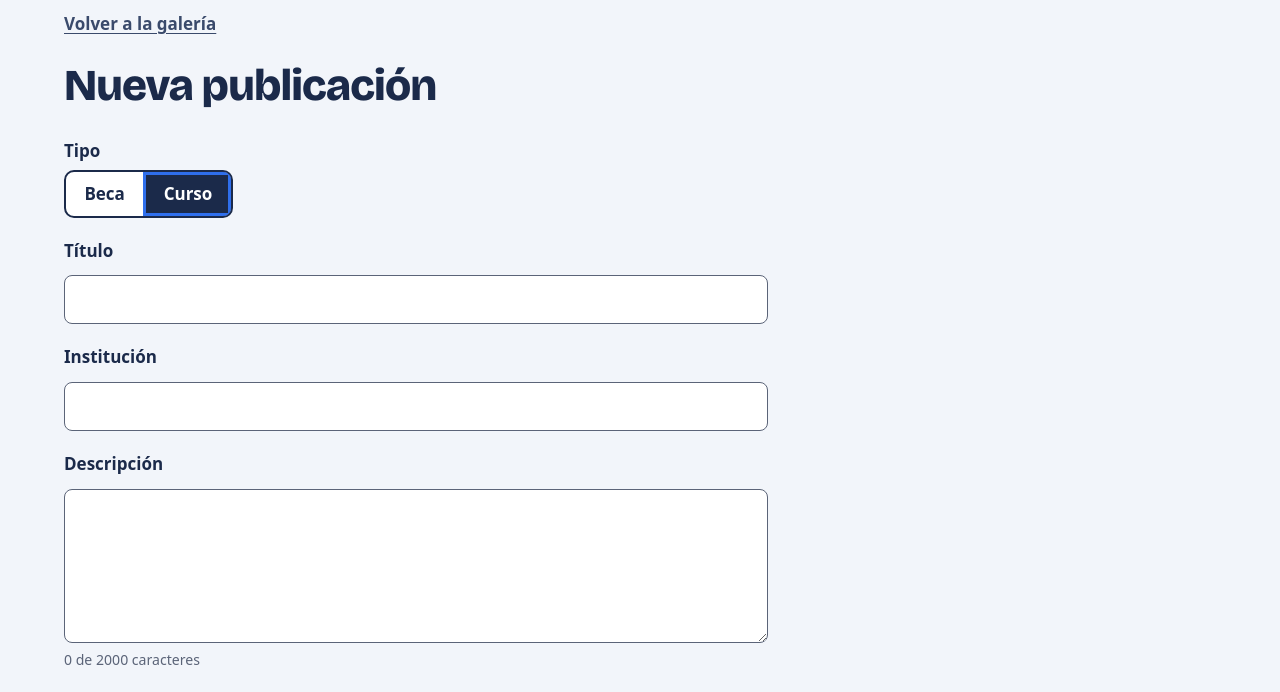
Test: Editor de publicaciones › crea un curso y vuelve a la galería con un mensaje
Earlier steps of the test are not shown.
Step 1. Type "Curso de Git" into the field labelled "Título" → (416, 300), box [64,275,768,324]
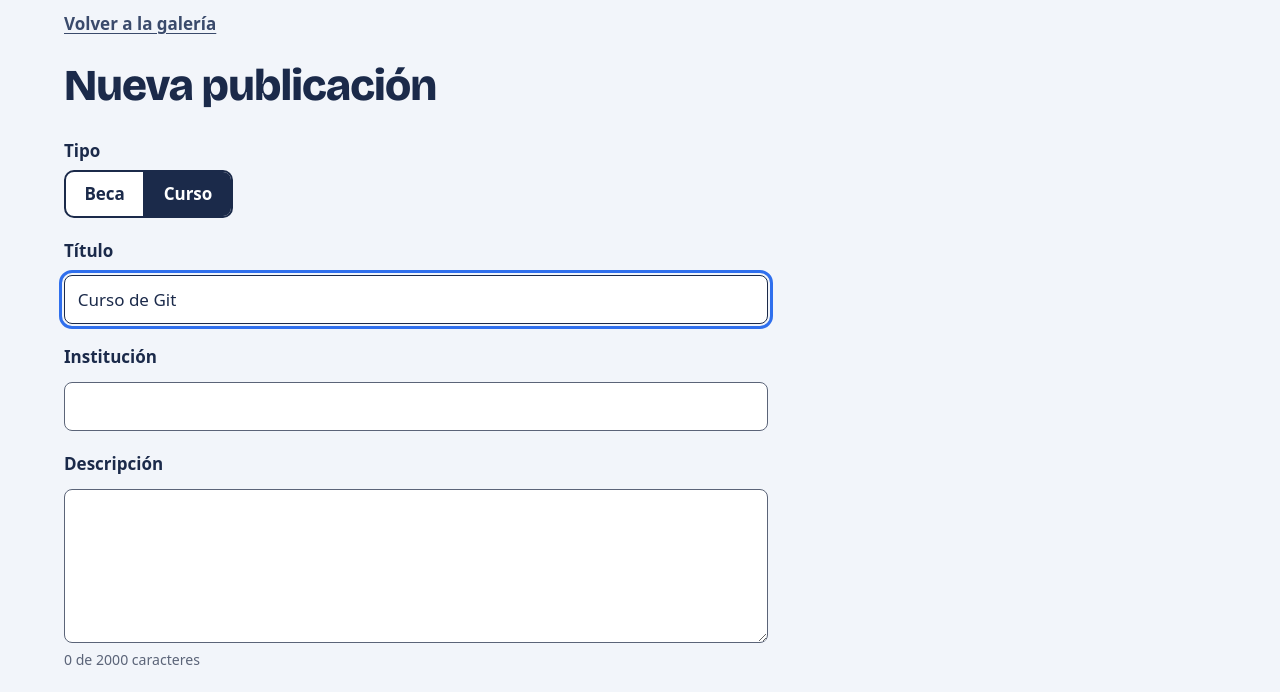
Step 2. Type "Academia" into the field labelled "Institución" → (416, 407), box [64,382,768,431]
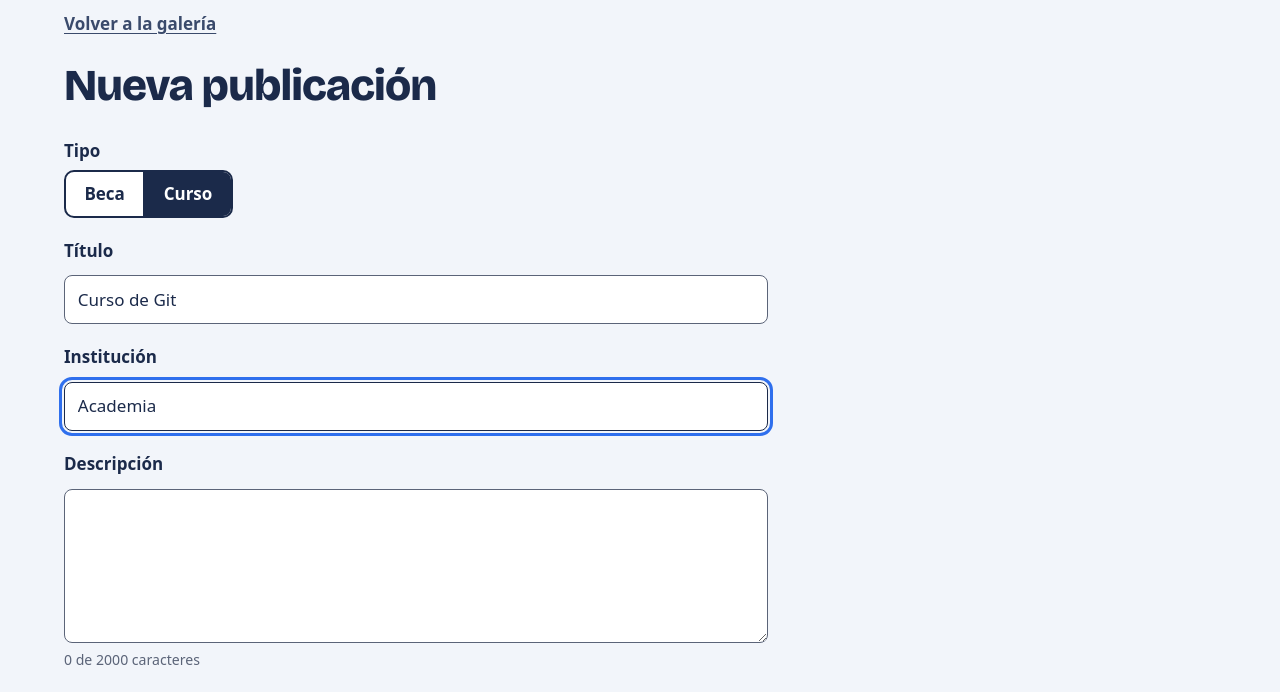
Step 3. Type "Control de versiones" into the text box labelled "Descripción" → (416, 566), box [64,489,768,643]
(page scrolled)
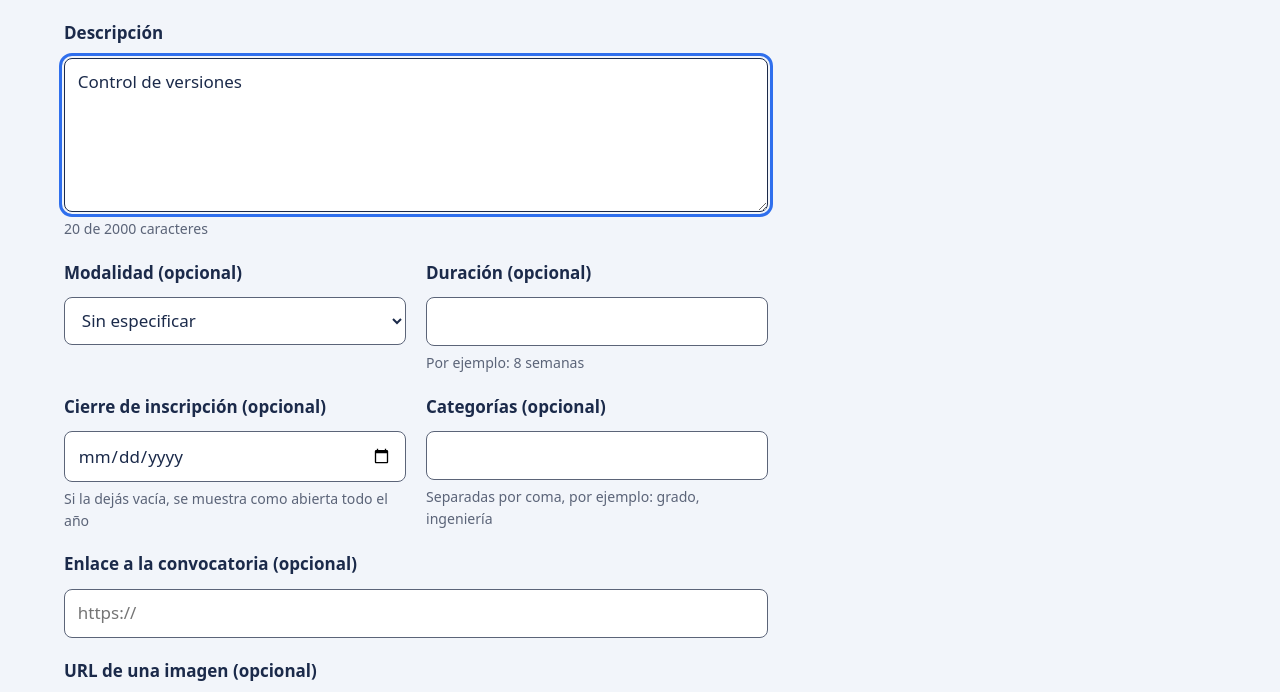
Step 4. Select "Virtual" in the dropdown labelled "Modalidad (opcional)" → (235, 321), box [64,297,406,345]
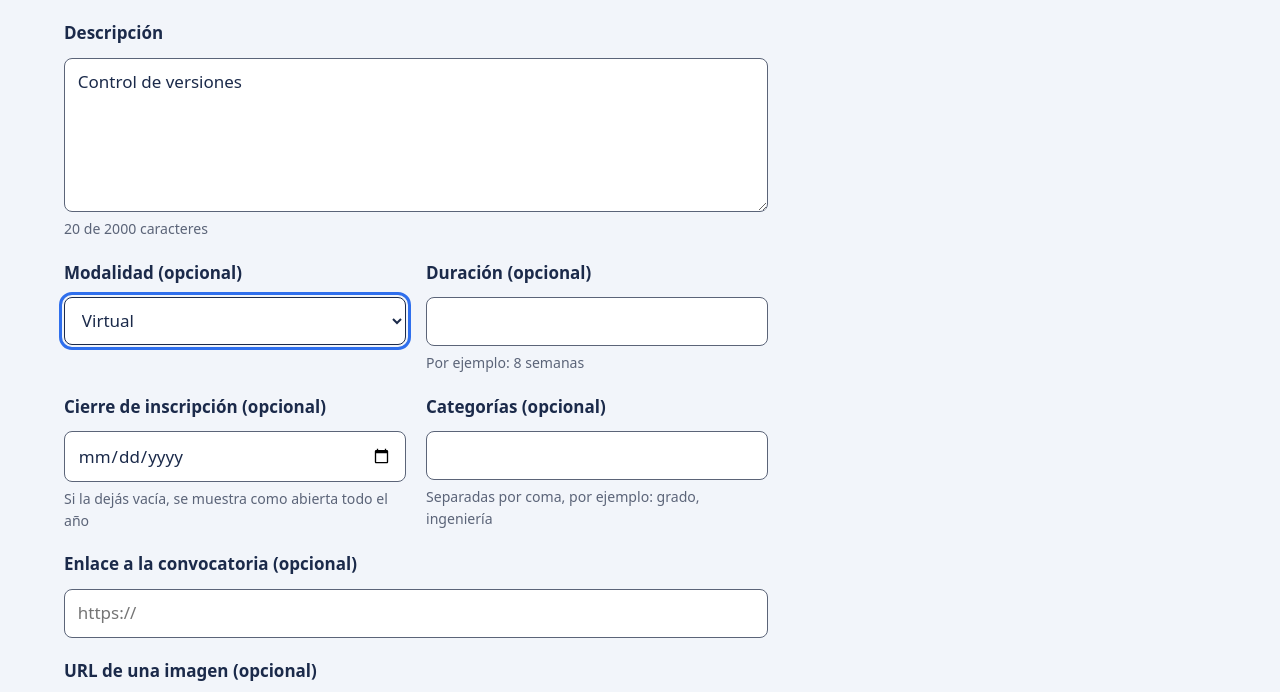
Step 5. Type "Programación, herramientas" into the field labelled "Categorías (opcional)" → (597, 456), box [426,431,768,480]
(page scrolled)
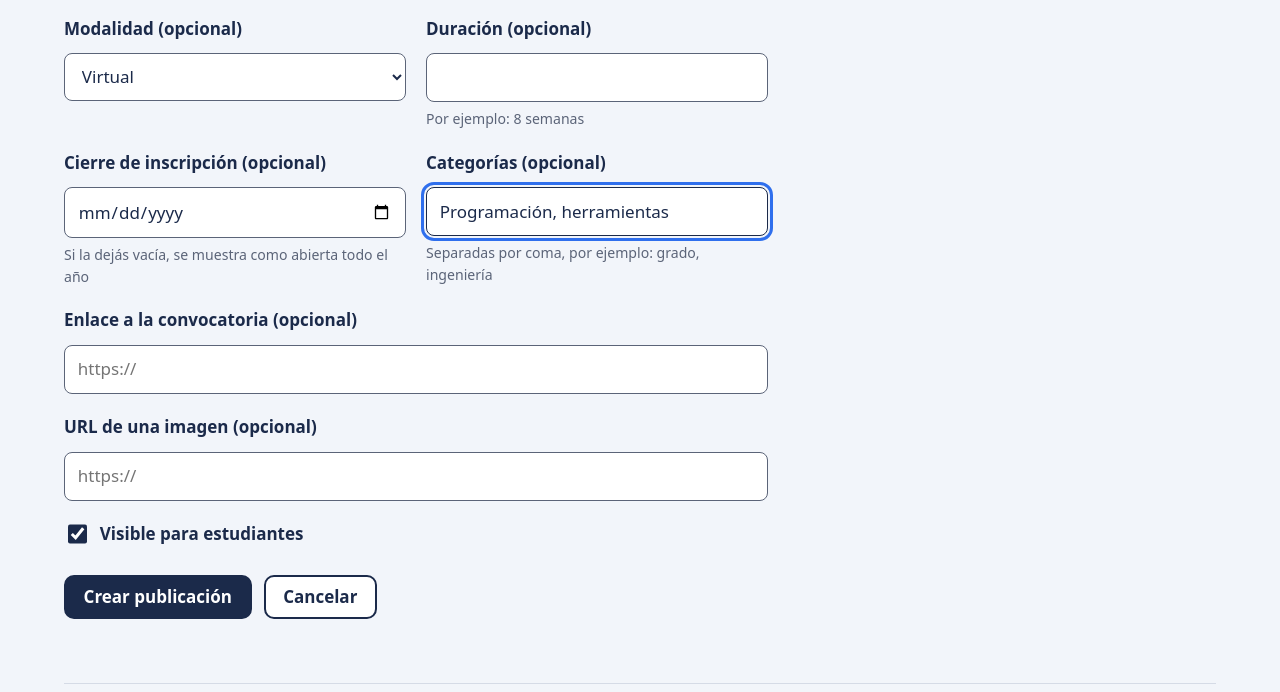
Step 6. Click the button "Crear publicación" → (158, 597), box [64,575,252,619]
(page scrolled)
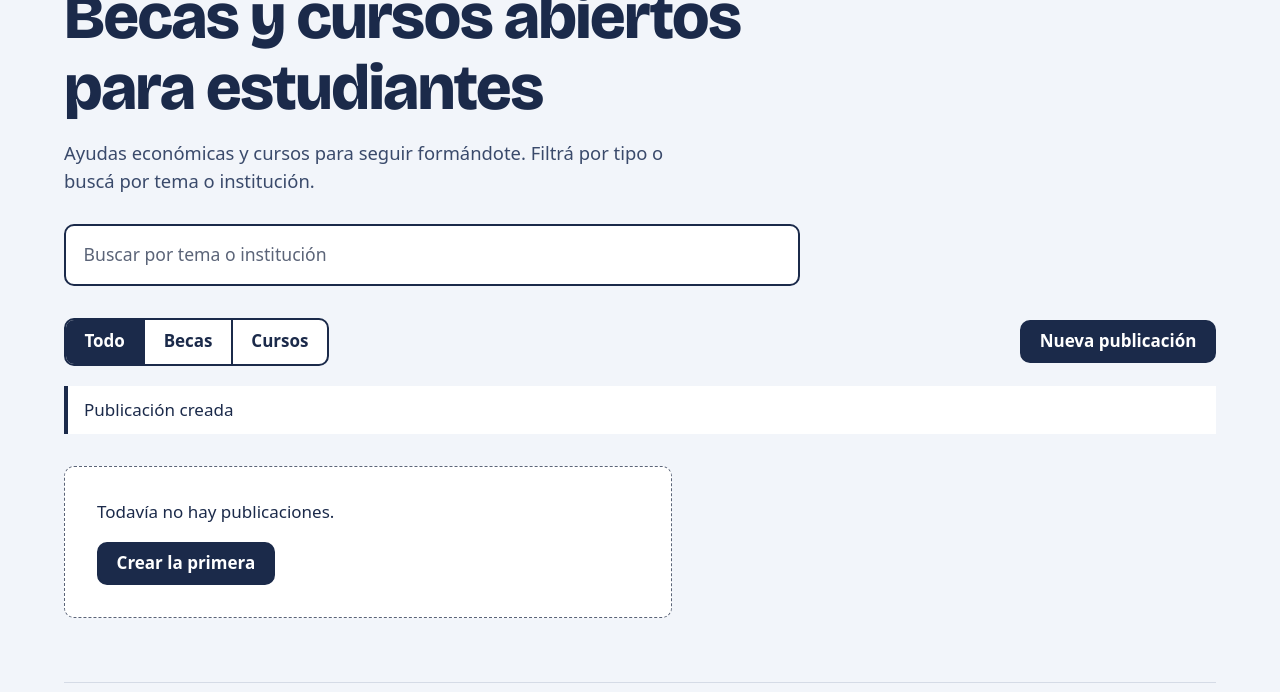
Expected: the text "Publicación creada" is shown, [64,386,1216,434]
